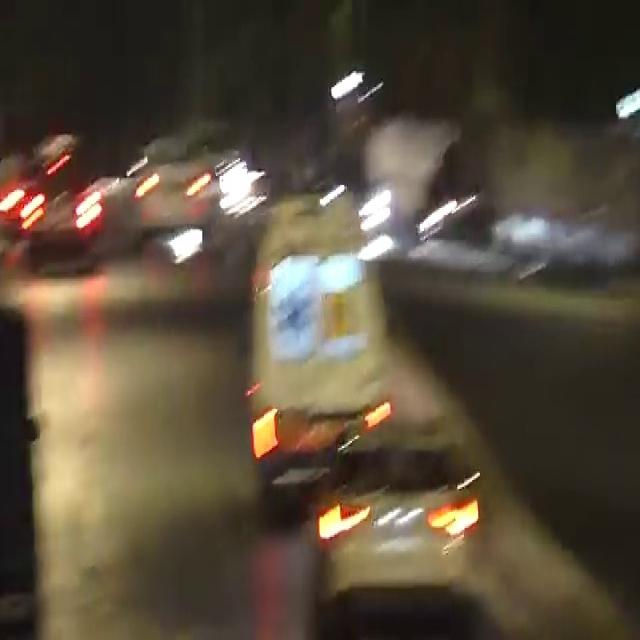ambulance: (250, 194, 378, 434)
